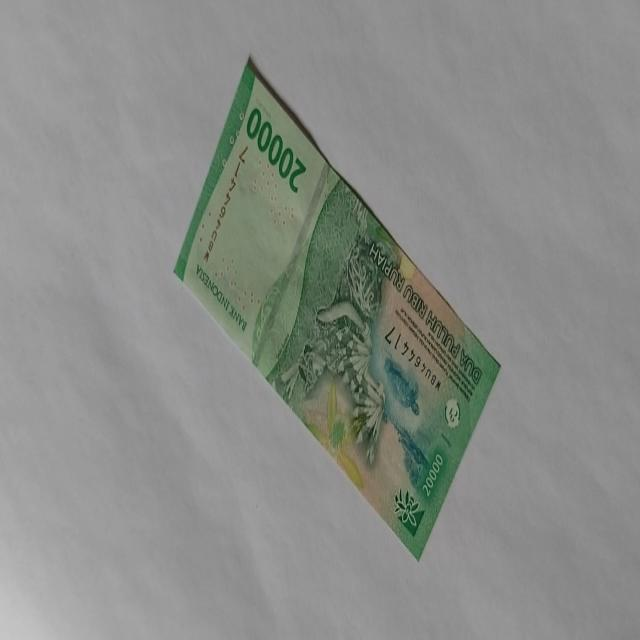dua puluh ribu rupiah: (173, 53, 502, 561)
